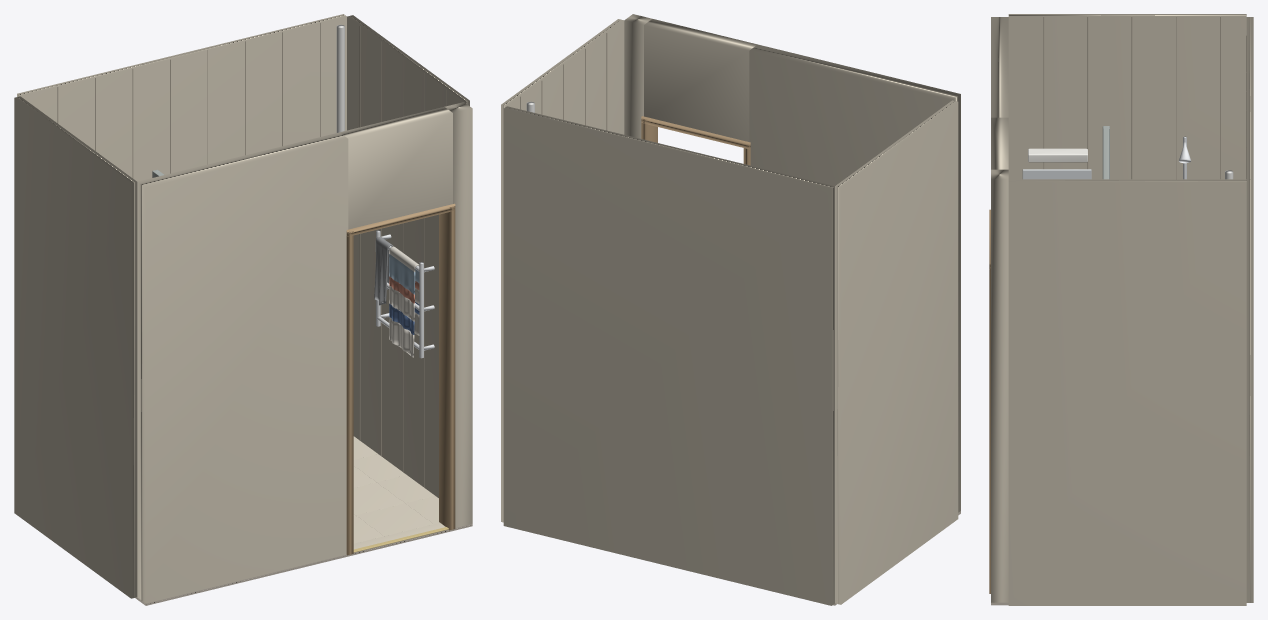
File: bathroom_full_v2.glb
The picture shows the model from 3 angles, left to right: view 1: azimuth 30°, elevation 25°; view 2: azimuth 150°, elevation 25°; view 3: azimuth 270°, elevation 25°; orthographic projection.
Visible parts, largest first — view 1: Wall_Panels, Door_Jambs, Floor_Tiles, Wall_Seams, StripedTowel_Band_0, Towel_Rail_Chrome, Floor_Grout, Riser_Pipe, GreyTowel_Cloth, StripedTowel_Band_3; view 2: Wall_Panels, Door_Jambs; view 3: Wall_Panels, Wall_Seams, Vanity_Lamp, Door_Jambs, Mirror, Shower_Aluminum_Frame.
Part boxes in pixels (box(x1,y1,x2,y2)): Wall_Panels: box(14, 14, 472, 603); Door_Jambs: box(346, 203, 455, 555); Floor_Tiles: box(353, 436, 445, 549); Wall_Seams: box(33, 23, 446, 487); StripedTowel_Band_0: box(389, 246, 419, 357); Towel_Rail_Chrome: box(376, 230, 434, 358); Floor_Grout: box(135, 482, 472, 605); Riser_Pipe: box(336, 24, 344, 132); GreyTowel_Cloth: box(374, 236, 392, 305); StripedTowel_Band_3: box(389, 254, 419, 294); Wall_Panels: box(501, 14, 960, 605); Door_Jambs: box(641, 116, 750, 165); Wall_Panels: box(991, 14, 1253, 605); Wall_Seams: box(1043, 17, 1246, 179); Vanity_Lamp: box(1028, 148, 1087, 162); Door_Jambs: box(989, 209, 990, 593); Mirror: box(1022, 169, 1091, 179); Shower_Aluminum_Frame: box(1102, 126, 1109, 179).
Bounding box in the file's own units: 2.26 × 2.67 × 1.5.
